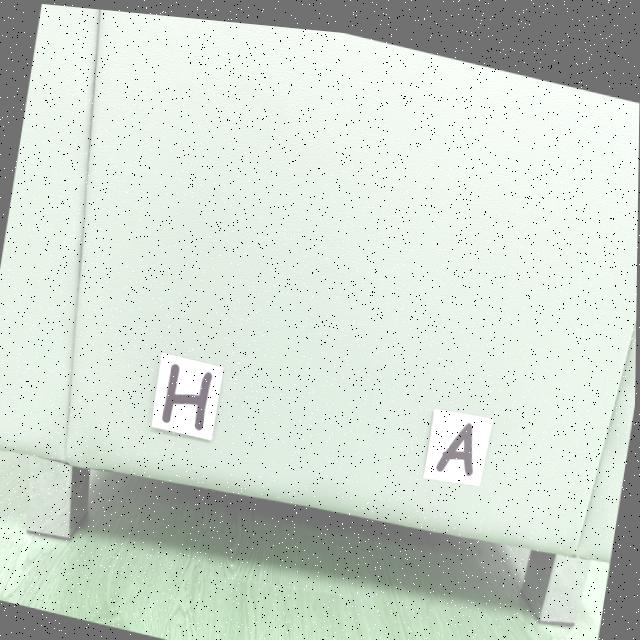A: (438, 413, 475, 467)
H: (163, 361, 214, 426)
